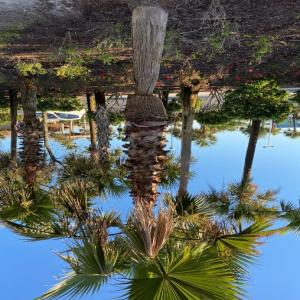palm tree: (193, 78, 298, 232)
